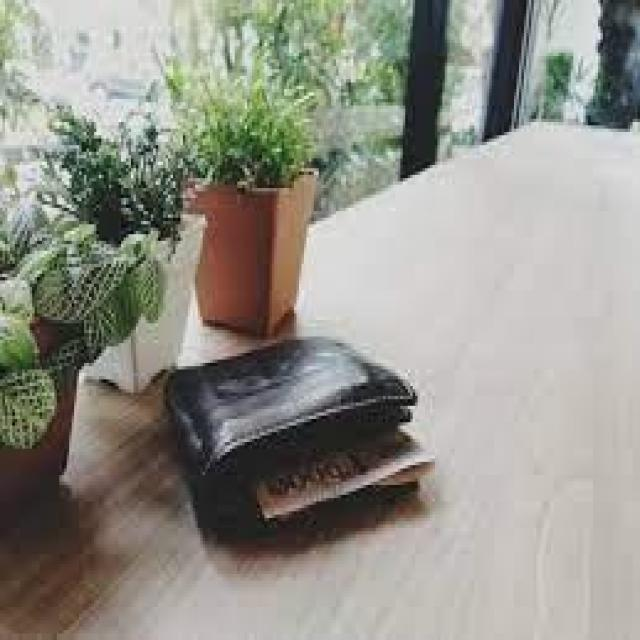cuzdan: (155, 320, 564, 551)
